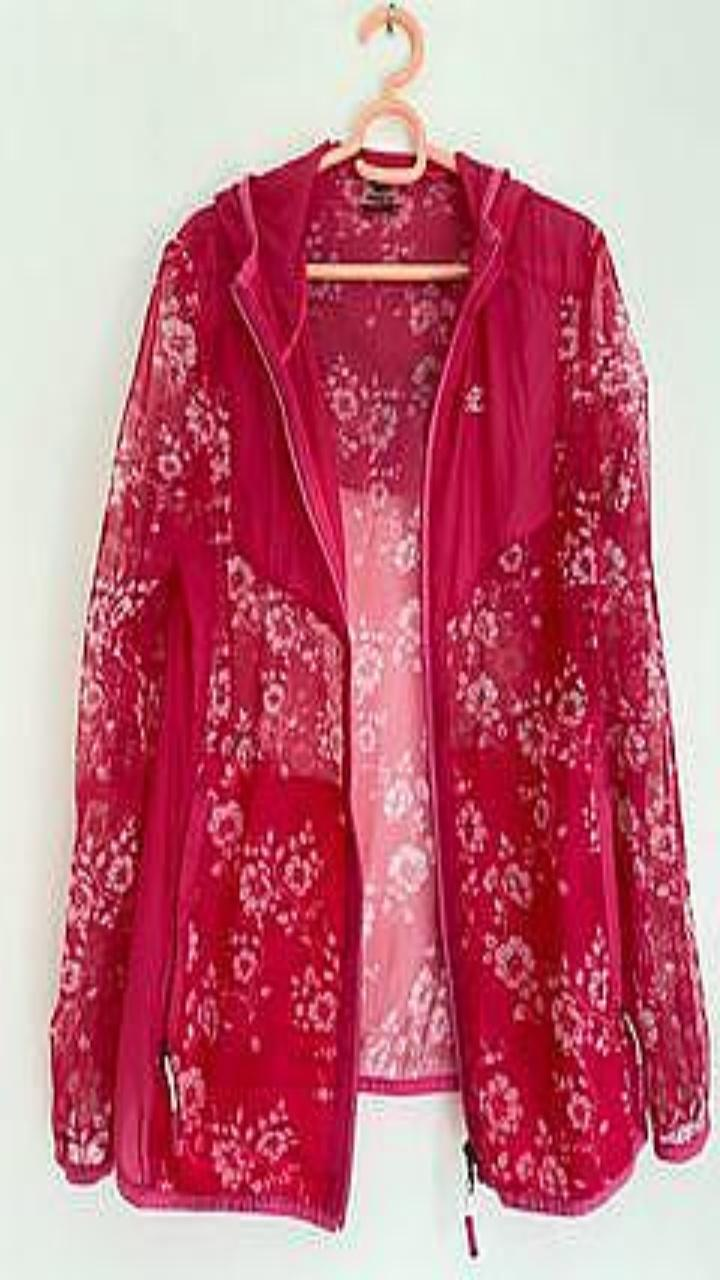Sports_Jacket: (50, 139, 709, 1228)
